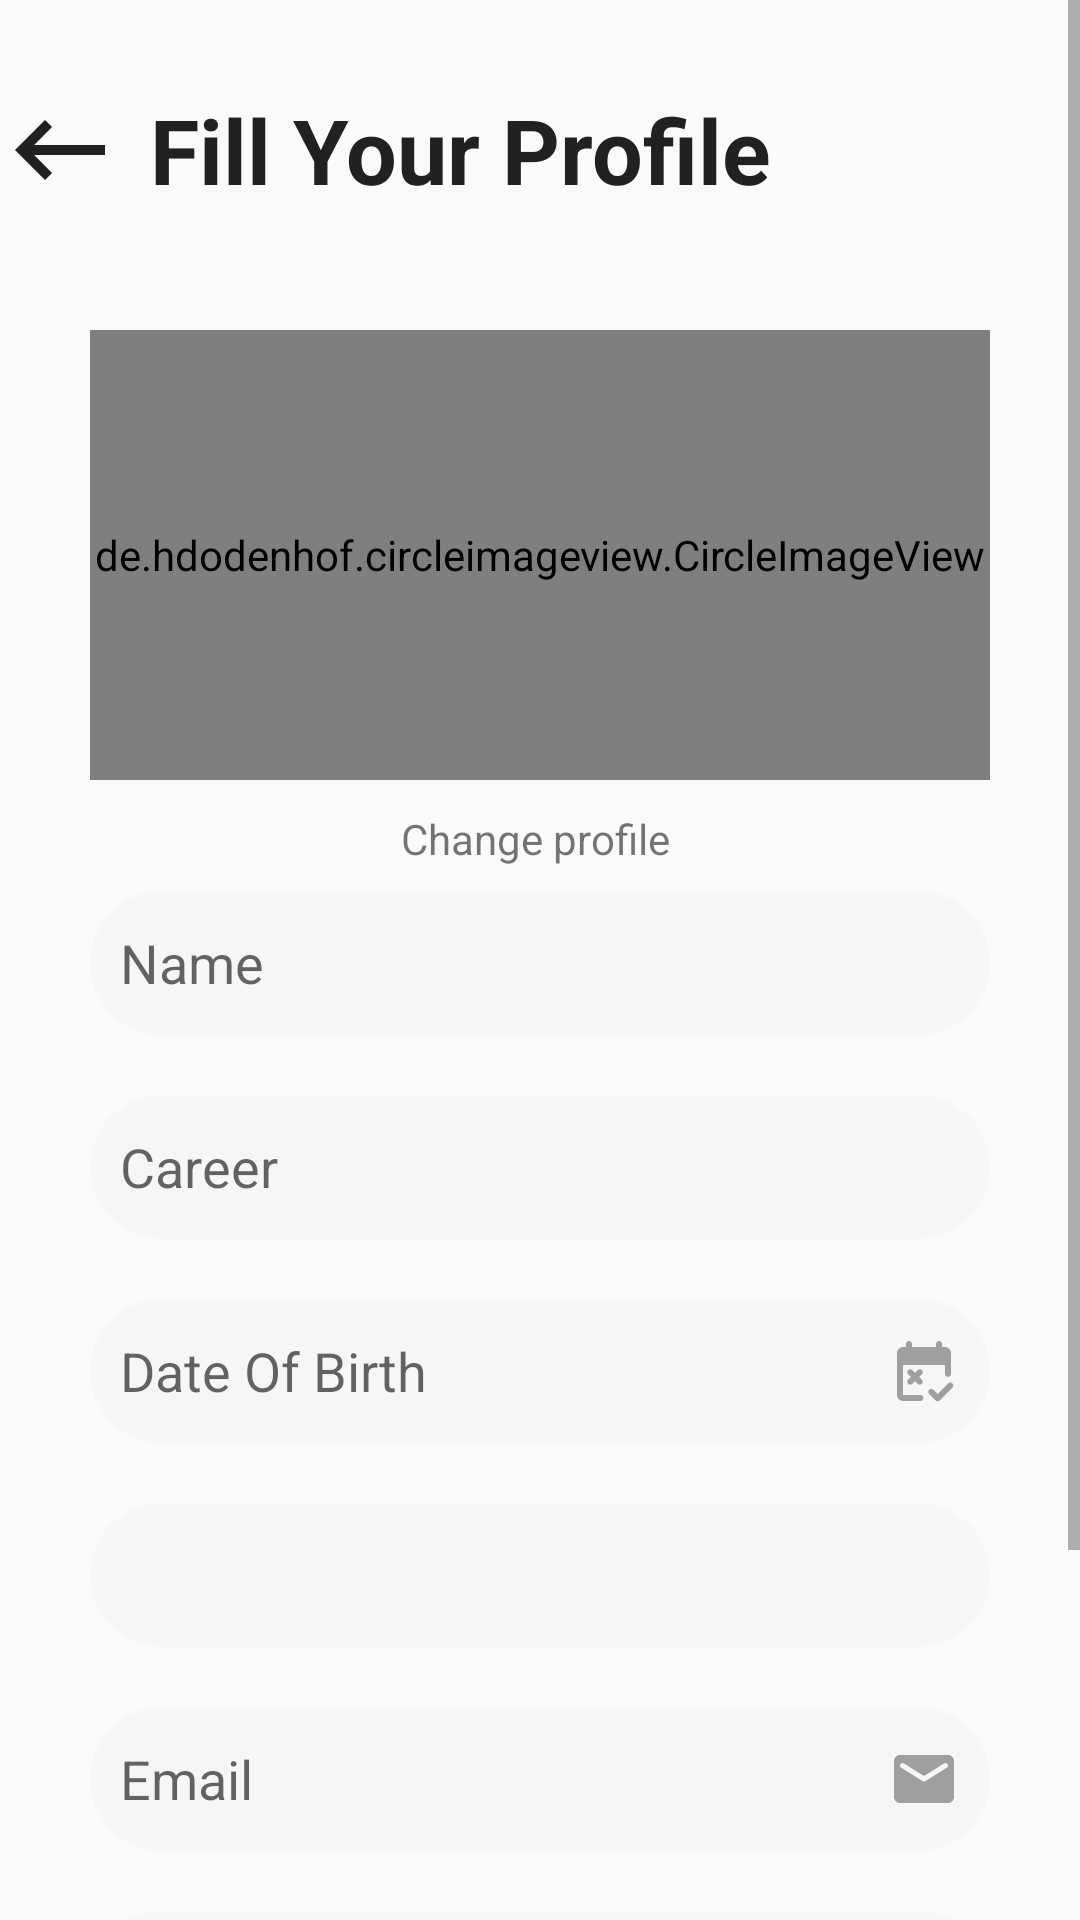

Icon bounding boxes for this 1080x1920 phone screenshot, format (left=x1, top=y1, right=x2, bottom=y2):
keyboard backspace: (left=15, top=120, right=105, bottom=180)
